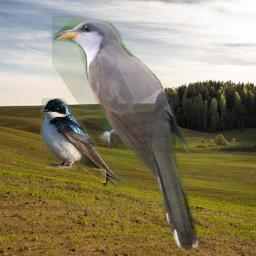Cuckoo: (52, 16, 204, 256)
Swallow: (40, 98, 123, 192)
